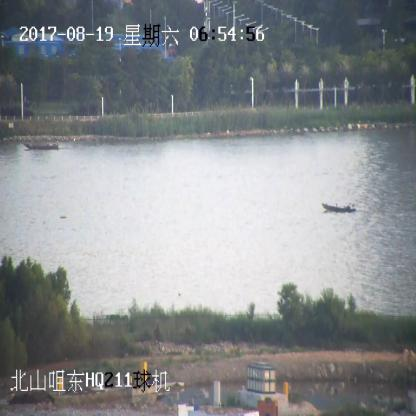Fishing Boat: (321, 202, 355, 214), (25, 141, 59, 150)
